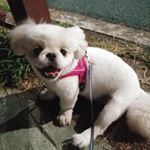puppy: (6, 21, 91, 131)
